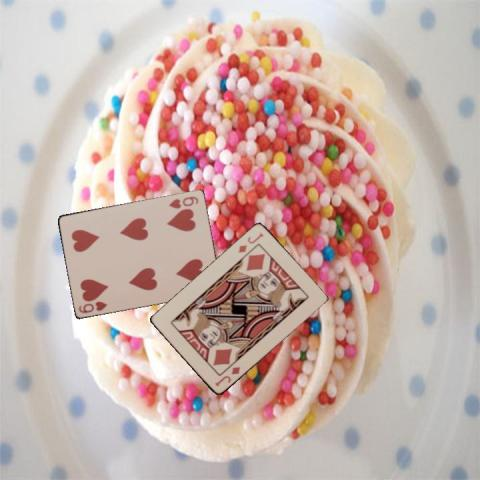6h: (166, 193, 200, 210), (76, 298, 109, 314)
Jd: (235, 230, 265, 255), (212, 364, 241, 388)
